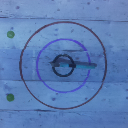Axe Tip: (50, 62, 62, 64)
